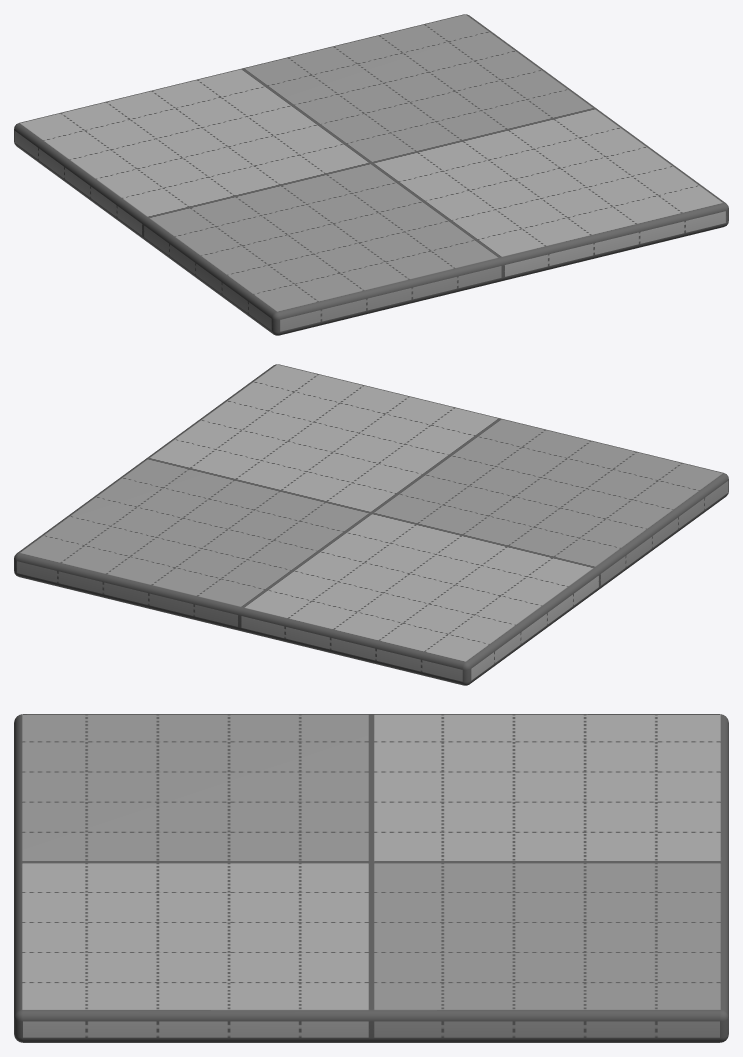
Rendered from Floor1x0x1.fbx.
3 renders of one model, top to bottom at view 1: azimuth 30°, elevation 25°; view 2: azimuth 150°, elevation 25°; view 3: azimuth 270°, elevation 25°, orthographic. The views are drawn at different scales.
Visible parts, largest first — view 1: Floor1x0x1; view 2: Floor1x0x1; view 3: Floor1x0x1.
Boxes of the visible parts, left/top/right/bottom form: Floor1x0x1: left=14, top=14, right=728, bottom=335; Floor1x0x1: left=14, top=364, right=728, bottom=685; Floor1x0x1: left=14, top=714, right=728, bottom=1042.
Size of the model in its own units: 100 by 5 by 100.
